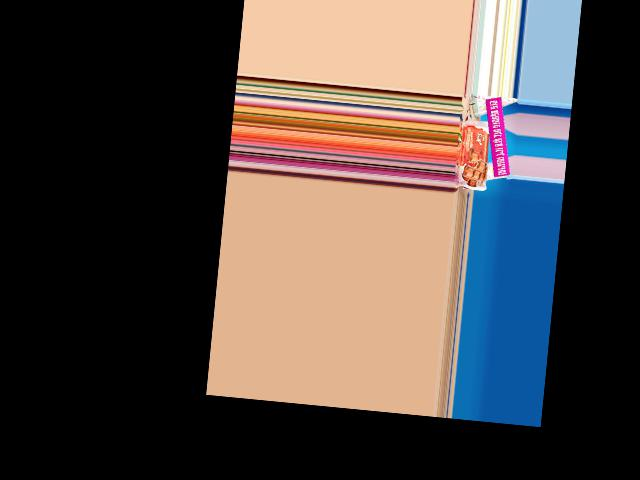chocolate: (455, 117, 493, 193)
